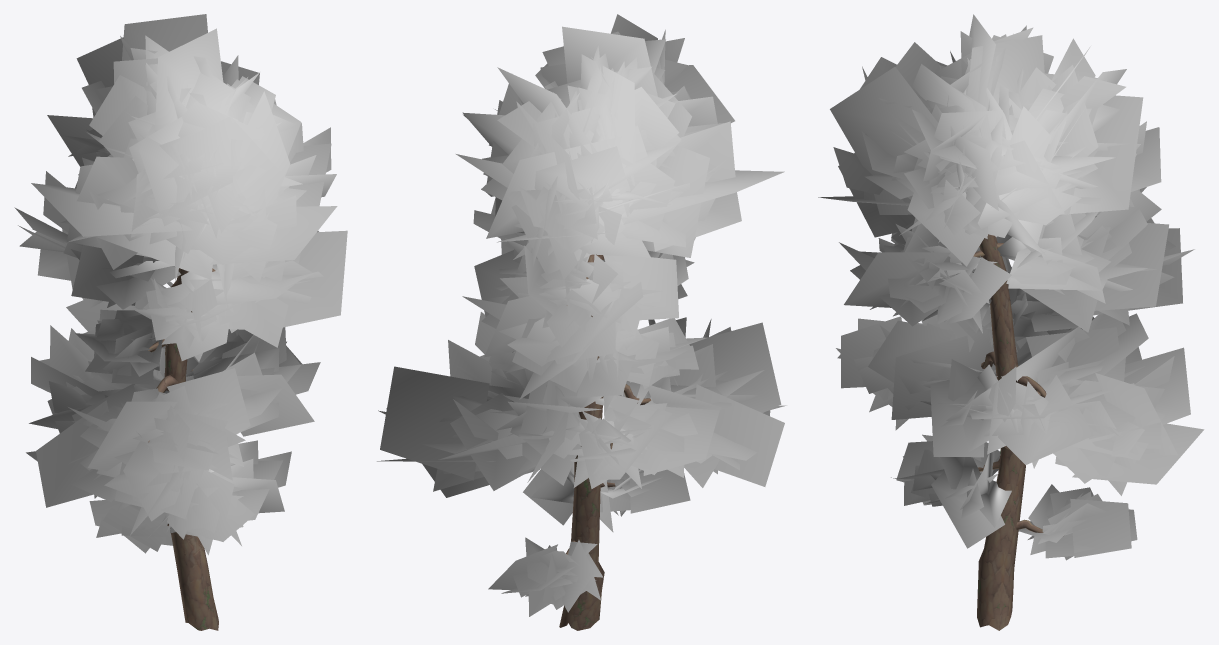
The model's file is SM_EastLands_Conifer_Straight_02_Trunk.fbx.
3 views of the same model, side by side, from view 1: azimuth 30°, elevation 25°; view 2: azimuth 150°, elevation 25°; view 3: azimuth 270°, elevation 25° (orthographic). The views are drawn at different scales.
Parts seen in each view (by area): view 1: SM_EastLands_Conifer_Straight_02_Trunk_LOD0; view 2: SM_EastLands_Conifer_Straight_02_Trunk_LOD0; view 3: SM_EastLands_Conifer_Straight_02_Trunk_LOD0.
Boxes of the visible parts, x1,y1,x2,y2 form: SM_EastLands_Conifer_Straight_02_Trunk_LOD0: (14,14,347,630); SM_EastLands_Conifer_Straight_02_Trunk_LOD0: (377,14,786,630); SM_EastLands_Conifer_Straight_02_Trunk_LOD0: (818,14,1204,630).
Size of the model in its own units: 976 by 1742 by 1045.
